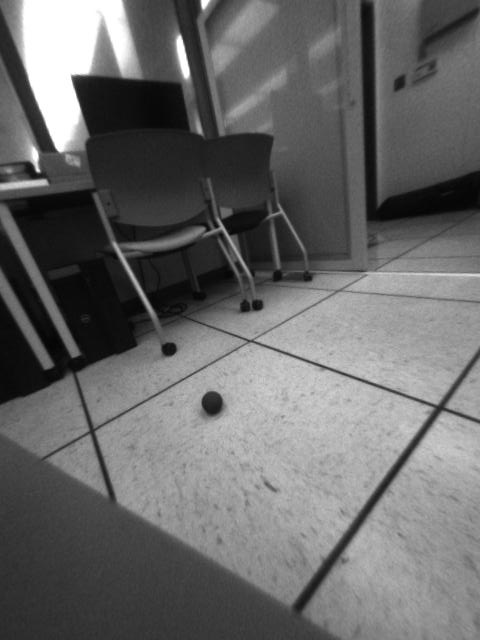dogtoy: (195, 383, 230, 419)
